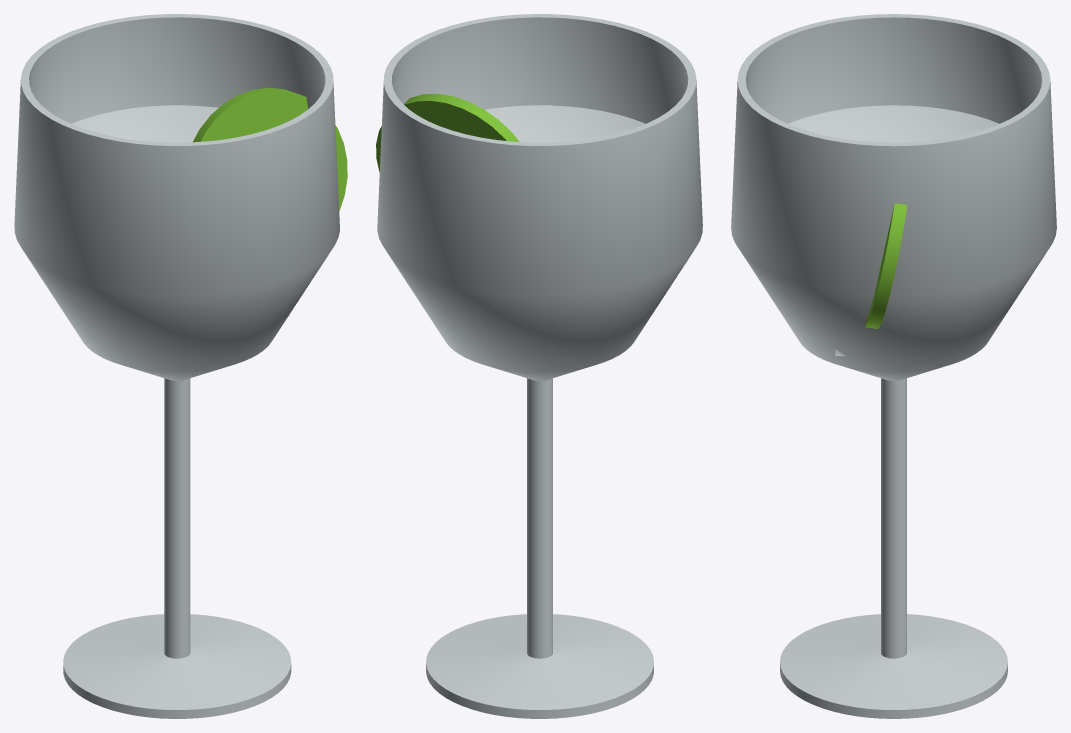
File: taca-claro.glb
3 renders of one model, left to right at view 1: azimuth 30°, elevation 25°; view 2: azimuth 150°, elevation 25°; view 3: azimuth 270°, elevation 25°, orthographic.
Visible parts, largest first — view 1: taca-claro; view 2: taca-claro; view 3: taca-claro.
Boxes of the visible parts, left/top/right/bottom form: taca-claro: left=14, top=14, right=347, bottom=718; taca-claro: left=376, top=14, right=702, bottom=718; taca-claro: left=731, top=14, right=1056, bottom=718.
Size of the model in its own units: 0.108 by 0.2 by 0.1.
